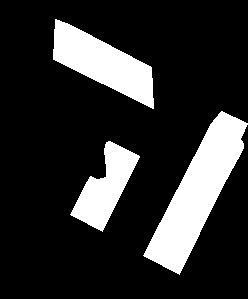parkingspot: (143, 111, 247, 274), (53, 19, 153, 108), (70, 141, 139, 231)
